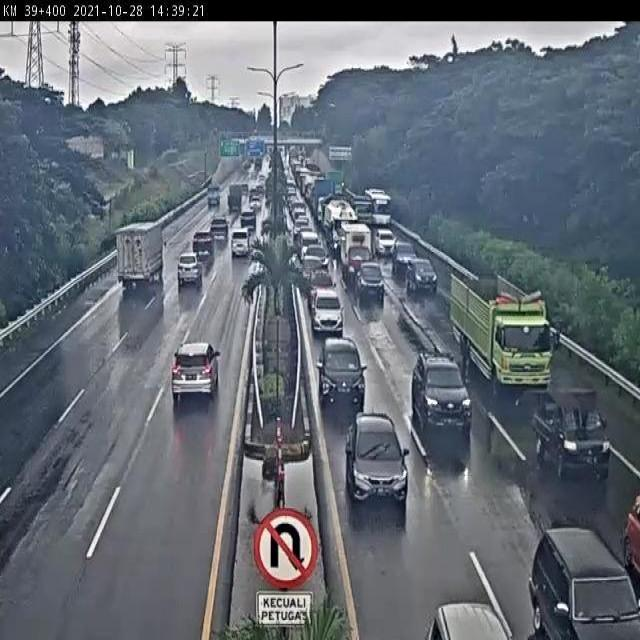big bus: (365, 187, 394, 228)
big truck: (445, 256, 555, 392), (108, 221, 169, 295), (336, 217, 374, 284), (347, 189, 374, 227)
car: (522, 505, 640, 640), (524, 386, 606, 474), (345, 408, 409, 508), (411, 347, 473, 444), (165, 332, 224, 412), (424, 592, 514, 640), (313, 335, 367, 409), (611, 471, 640, 576), (309, 282, 344, 334), (173, 248, 206, 296), (355, 257, 383, 304), (402, 252, 435, 289), (389, 234, 416, 274), (298, 256, 327, 291), (304, 240, 331, 275), (185, 235, 210, 265), (372, 224, 395, 255), (296, 230, 321, 258), (225, 235, 248, 265), (311, 266, 333, 294), (205, 220, 226, 249), (238, 211, 256, 232), (246, 199, 261, 216)
